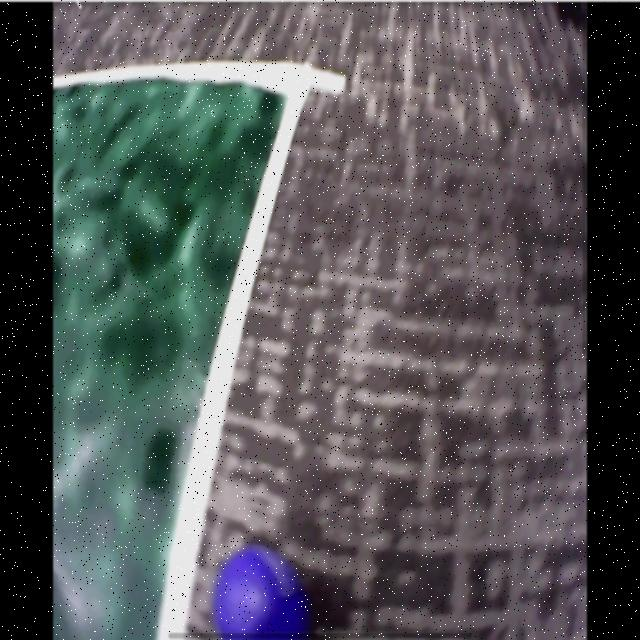ball: (216, 546, 309, 640)
